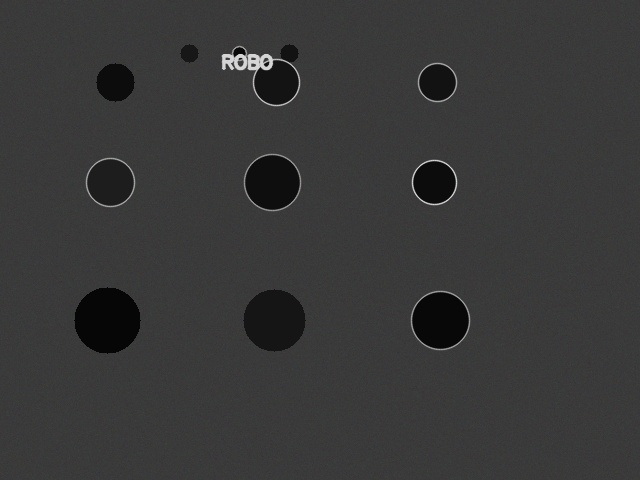hole: (74, 287, 140, 353), (243, 289, 305, 351), (411, 291, 469, 349), (244, 154, 300, 210), (86, 158, 134, 206), (253, 59, 299, 105), (412, 160, 456, 204), (96, 63, 134, 101), (418, 63, 456, 101), (180, 44, 198, 62), (280, 44, 298, 62), (232, 46, 246, 60)
